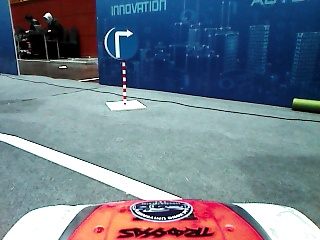turn: (102, 26, 141, 62)
